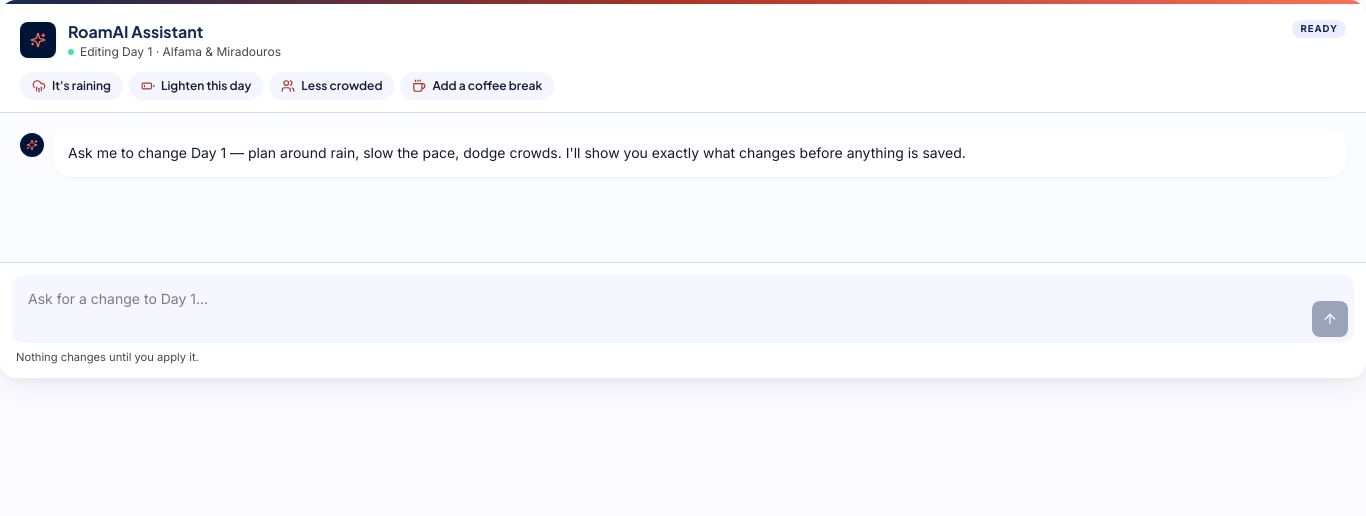
Test: TripAssistant › says nothing about effort when it doesn't change
Step 1. Type "It's raining" into the text box named "Ask RoamAI to change Day 1" → (661, 309), box left=18, top=281, right=1304, bottom=337
Then press Enter
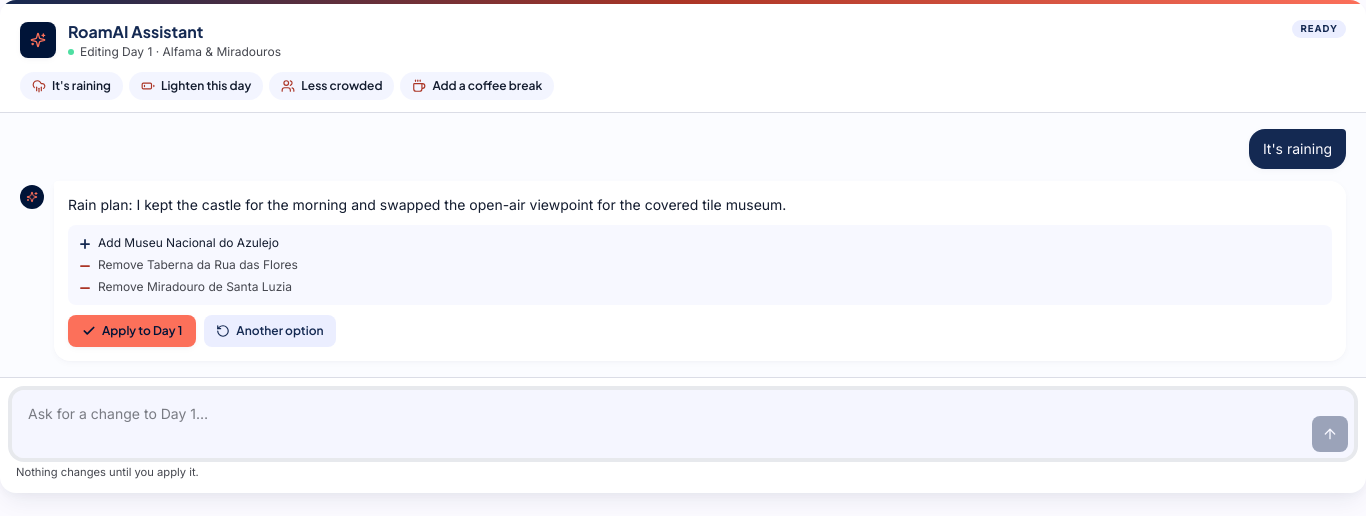
Expected: the text "Rain plan: I kept the castle for the morning and swapped the open-air viewpoint for the covered tile museum." is shown, left=68, top=196, right=786, bottom=213
